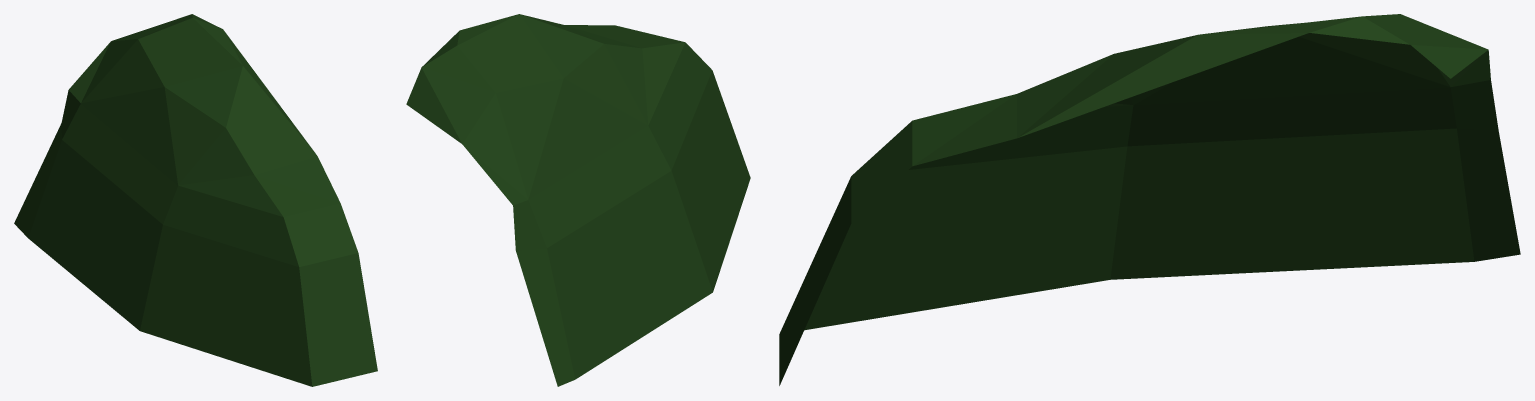
File: backgroundHill01.fbx
3 views of the same model, side by side, from view 1: azimuth 30°, elevation 25°; view 2: azimuth 150°, elevation 25°; view 3: azimuth 270°, elevation 25° (orthographic). The views are drawn at different scales.
Parts seen in each view (by area): view 1: Plane001; view 2: Plane001; view 3: Plane001.
Part boxes in pixels (box(x1,y1,x2,y2)): Plane001: box(14, 14, 377, 386); Plane001: box(406, 14, 750, 386); Plane001: box(779, 14, 1520, 385).
Bounding box in the file's own units: 2703 × 7136 × 3897.
